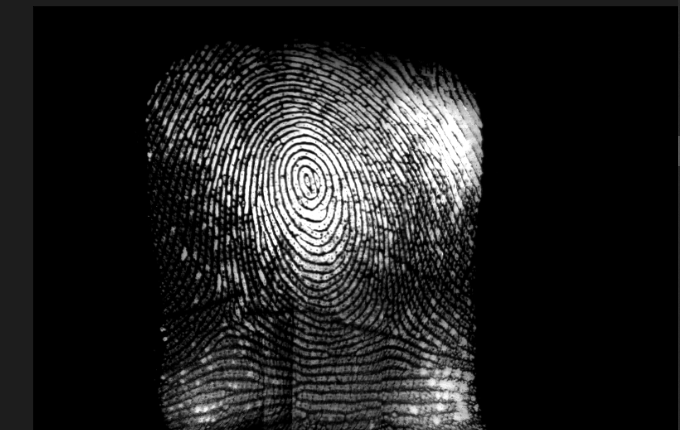nucelo: (286, 149, 333, 212)
verticilo: (205, 299, 239, 333), (379, 320, 417, 349)
